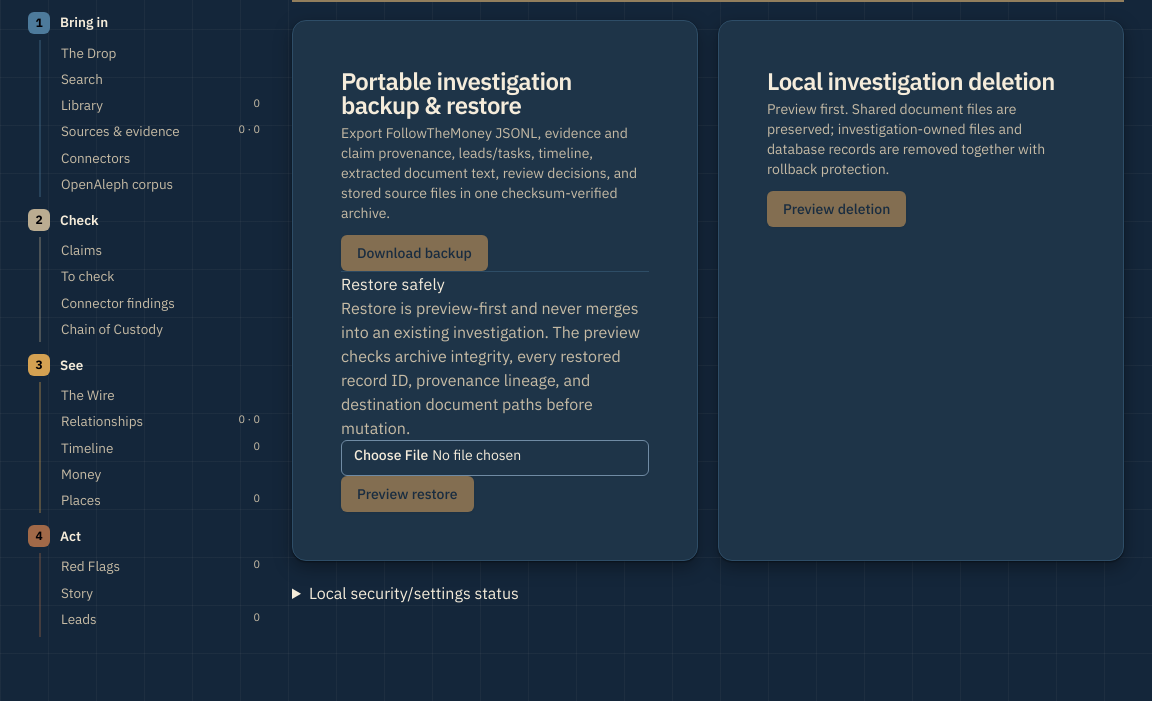
it: Home security audit metadata › loads recent security events and their summary
This screenshot has width=1152, height=701.
(page scrolled)
Click the heading "Local security/settings status": (414, 593) [309, 583, 519, 603]
(page scrolled)
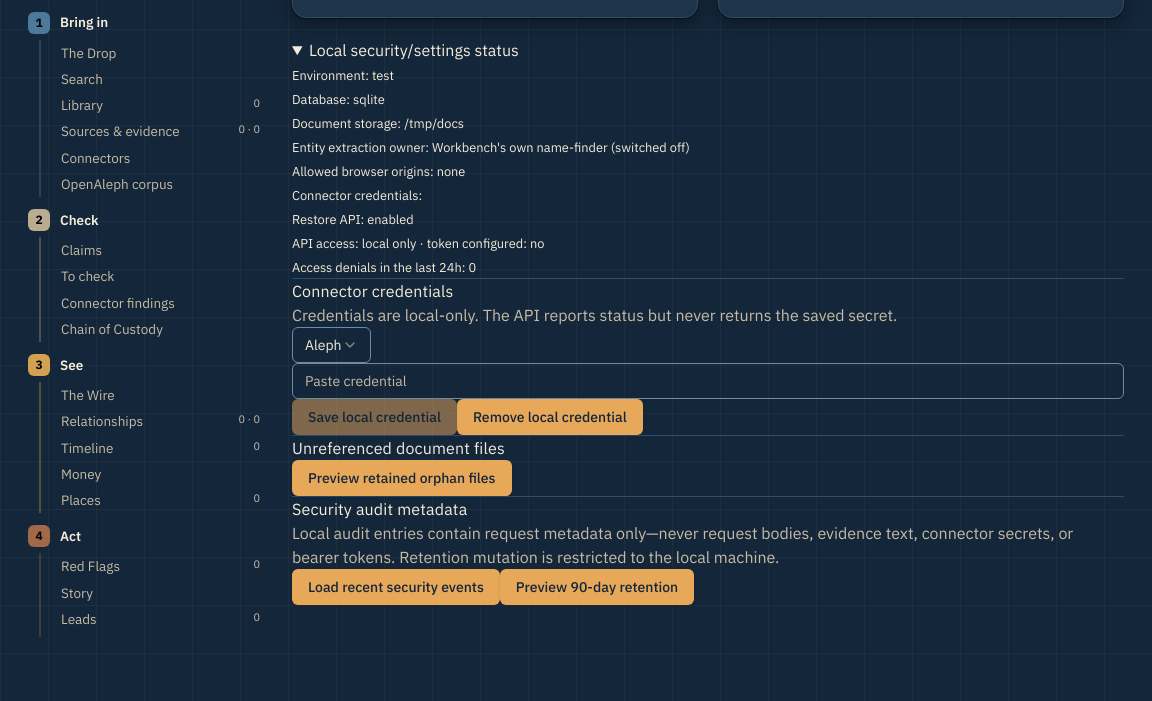
Result: the button "Load recent security events" is shown
Click the button "Load recent security events": (396, 587) [292, 569, 500, 605]
(page scrolled)
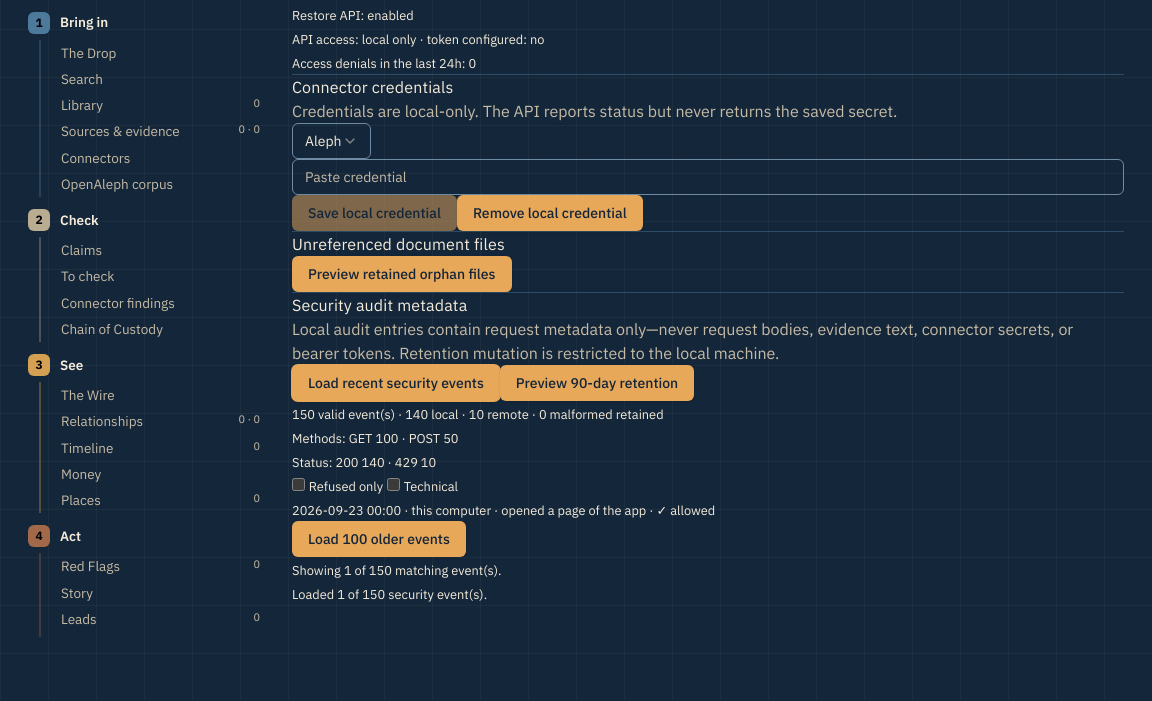
Result: the text "Loaded 1 of 150 security event(s)." is shown at [292, 586, 487, 603]
Result: the text "Showing 1 of 150 matching event(s)." is shown at [292, 562, 502, 579]
Result: the button "Load 100 older events" is shown at [292, 521, 466, 557]
